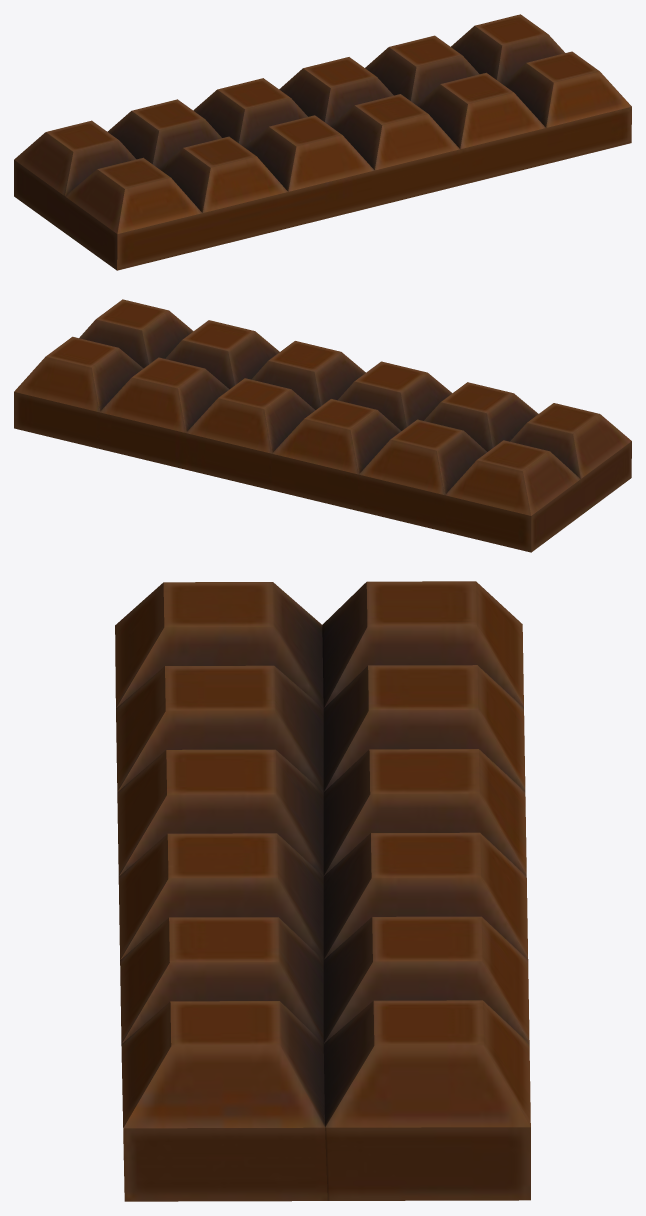
Rendered from chocolate.gltf.
3 renders of one model, top to bottom at view 1: azimuth 30°, elevation 25°; view 2: azimuth 150°, elevation 25°; view 3: azimuth 270°, elevation 25°, orthographic. The views are drawn at different scales.
Visible parts, largest first — view 1: Chocolate; view 2: Chocolate; view 3: Chocolate.
Part boxes in pixels (bbox=[...]): Chocolate: bbox=[14, 14, 631, 270]; Chocolate: bbox=[14, 299, 631, 552]; Chocolate: bbox=[115, 581, 530, 1201].
Bounding box in the file's own units: 0.2331 × 0.0293 × 0.0813.
1 material, 1 textured.
